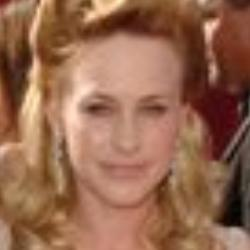face: (6, 1, 231, 229)
